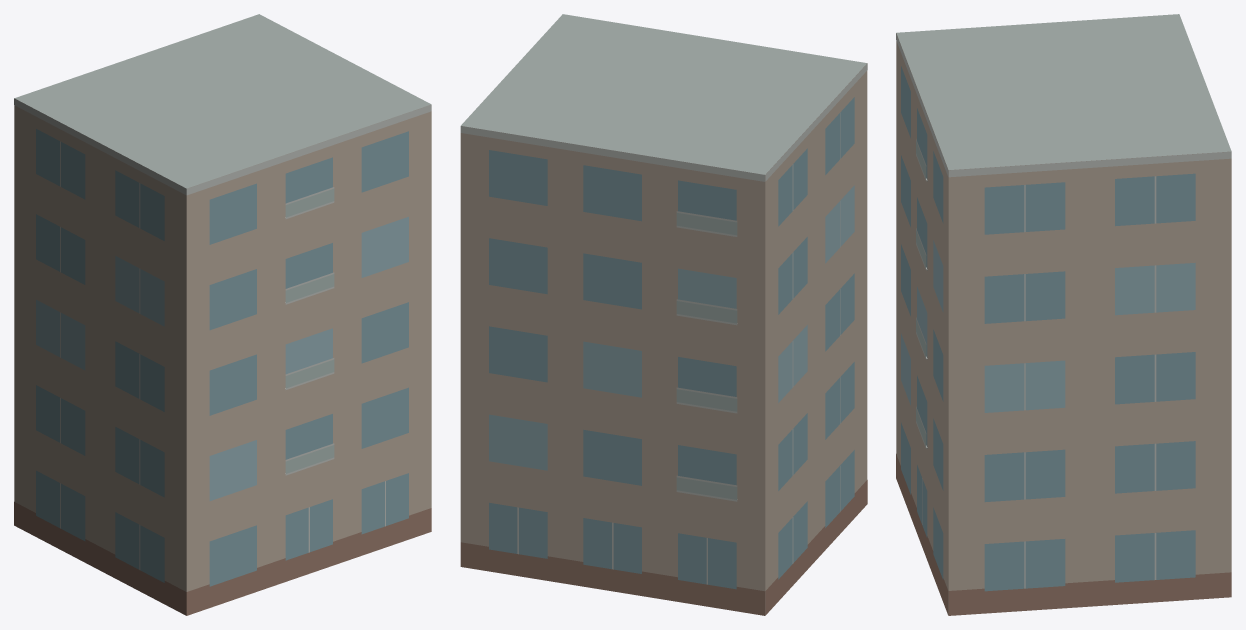
File: survey-upis-32765753.glb
The picture shows the model from 3 angles, left to right: view 1: azimuth 30°, elevation 25°; view 2: azimuth 150°, elevation 25°; view 3: azimuth 270°, elevation 25°; orthographic projection. The views are drawn at different scales.
Visible parts, largest first — view 1: survey-upis-32765753.tmp; view 2: survey-upis-32765753.tmp; view 3: survey-upis-32765753.tmp.
Boxes of the visible parts, bbox=[...] form: survey-upis-32765753.tmp: bbox=[14, 14, 431, 615]; survey-upis-32765753.tmp: bbox=[460, 14, 867, 615]; survey-upis-32765753.tmp: bbox=[896, 14, 1231, 615].
Size of the model in its own units: 11.43 by 15.2 by 10.38.
